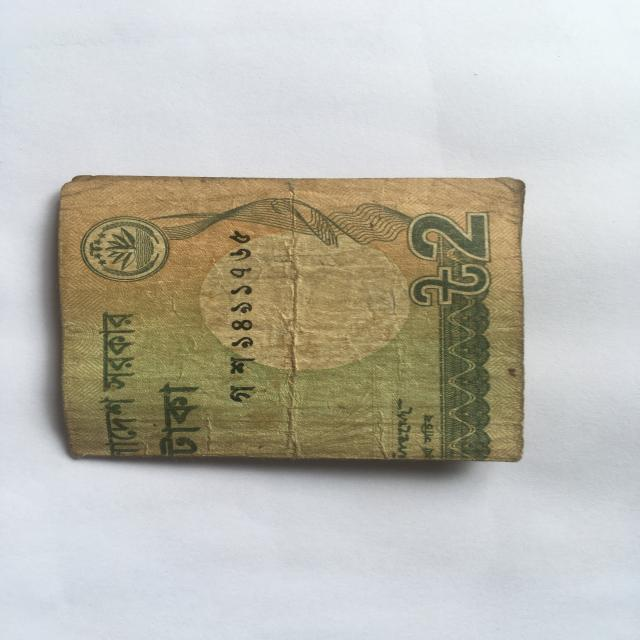Taka: (56, 168, 537, 474)
